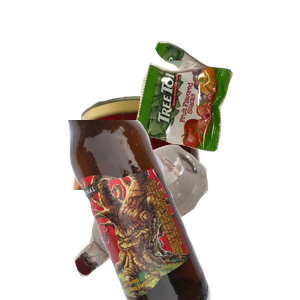glass: (65, 120, 300, 300)
metal: (69, 93, 265, 273)
plastic: (72, 142, 273, 300)
trash: (131, 38, 300, 182)
